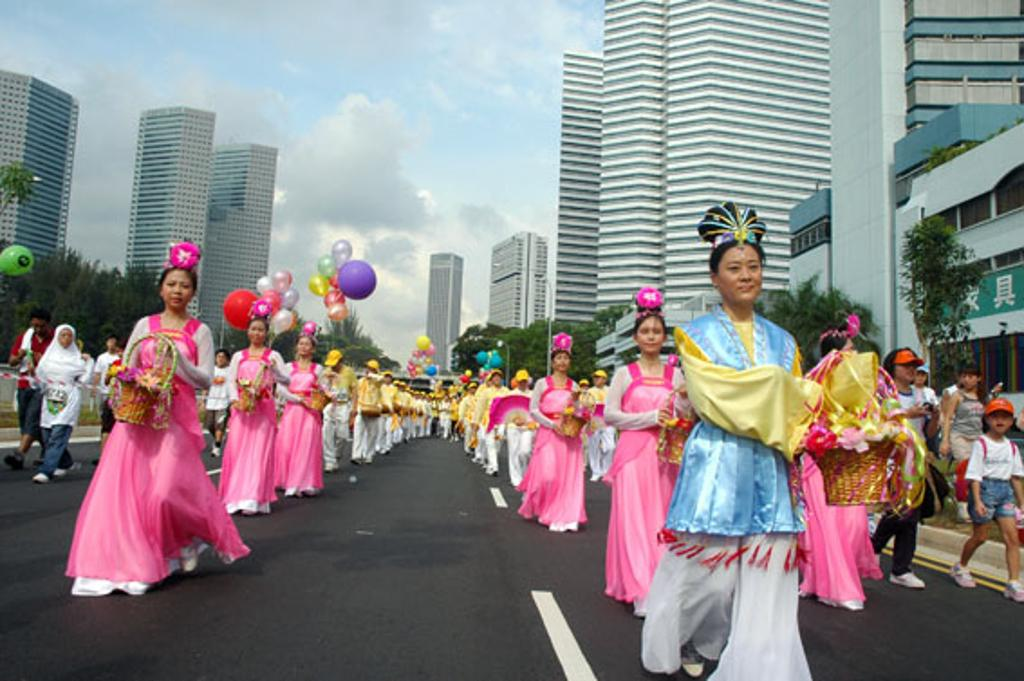face: (720, 250, 760, 301), (161, 274, 192, 308), (639, 319, 663, 352), (989, 409, 1011, 432), (248, 321, 266, 342), (897, 359, 914, 380), (553, 354, 569, 369), (962, 373, 976, 389), (33, 321, 47, 336), (298, 338, 311, 353), (60, 330, 72, 346), (329, 358, 342, 372), (915, 369, 927, 384), (592, 374, 602, 386), (216, 354, 226, 365), (517, 377, 526, 389), (366, 365, 375, 376), (492, 374, 500, 384), (108, 339, 116, 348), (580, 382, 587, 392), (385, 377, 390, 382), (470, 387, 475, 392)
